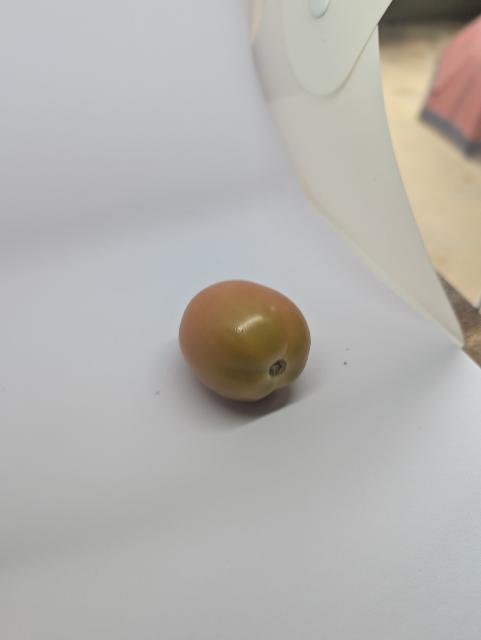turning: (171, 274, 318, 407)
